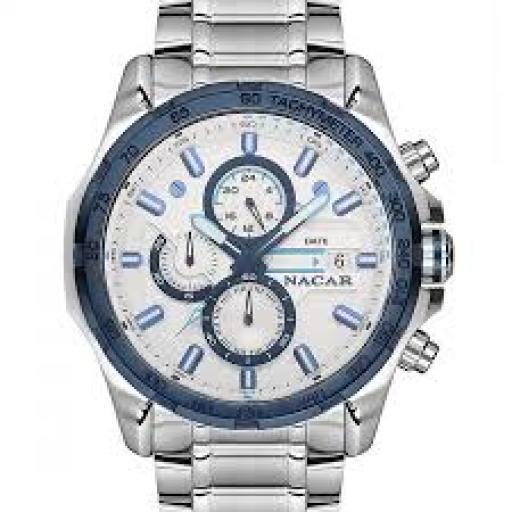KolSaati: (66, 0, 475, 507)
